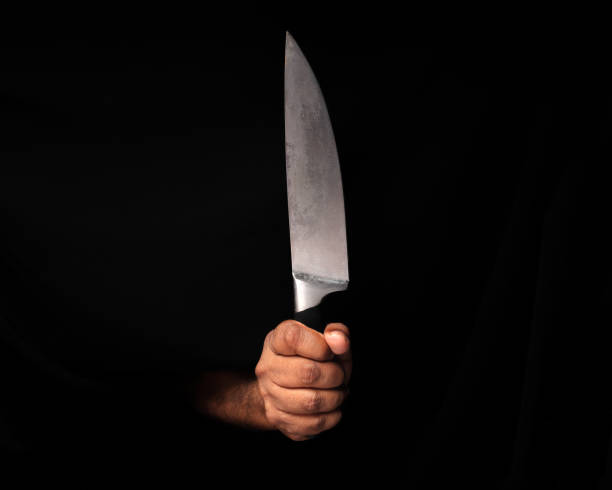knife: (280, 28, 351, 336)
